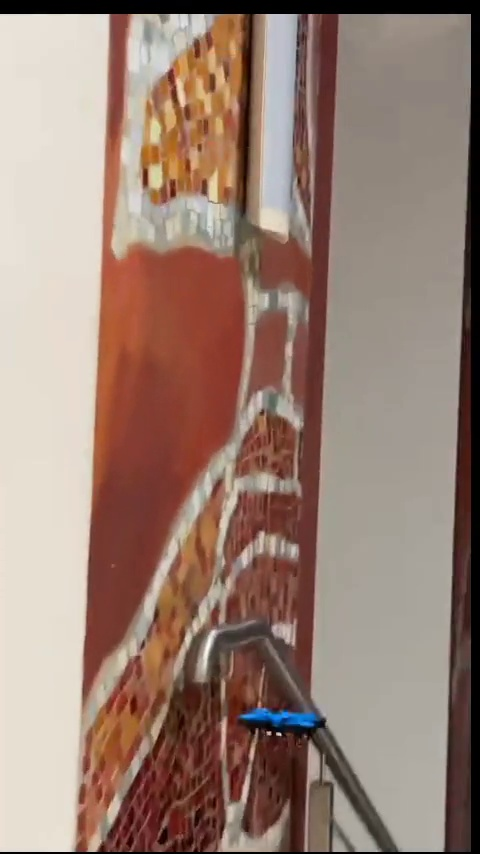drone: (237, 707, 326, 736)
